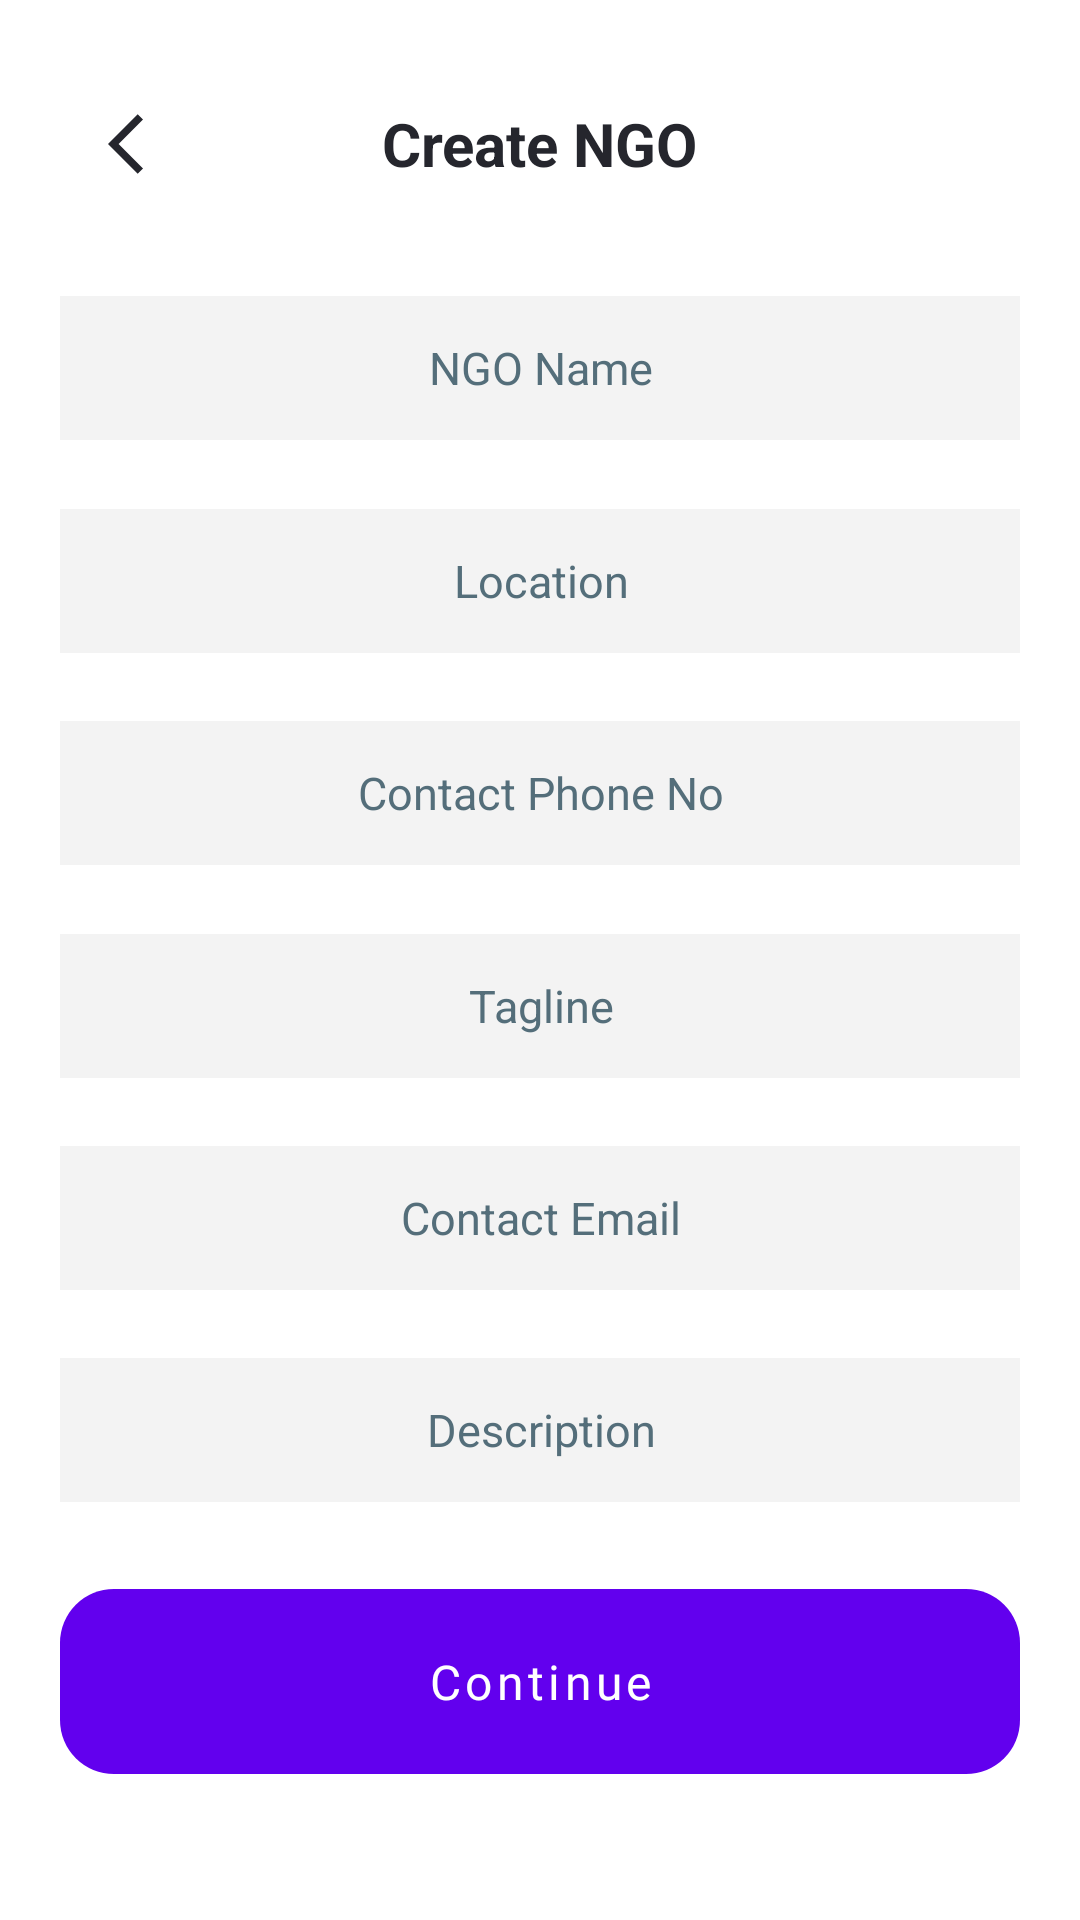

Named icons in this screenshot (1080px×1920px) and their centers, (x=x, y=y):
back arrow: (x=125, y=144)
